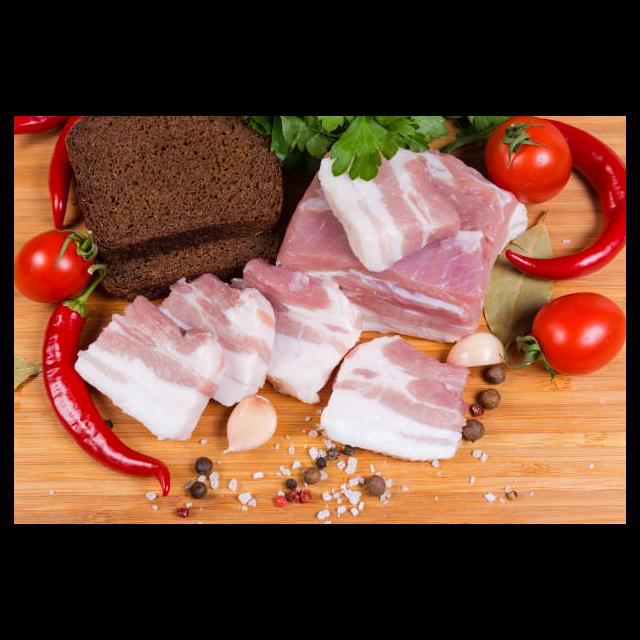chili_pepper: (575, 130, 626, 281), (37, 299, 90, 444)
pork: (188, 266, 351, 388), (88, 304, 216, 446), (326, 340, 466, 461), (326, 140, 459, 258), (338, 235, 483, 336)
tomato: (529, 289, 626, 376), (483, 116, 568, 195), (14, 226, 94, 302)
